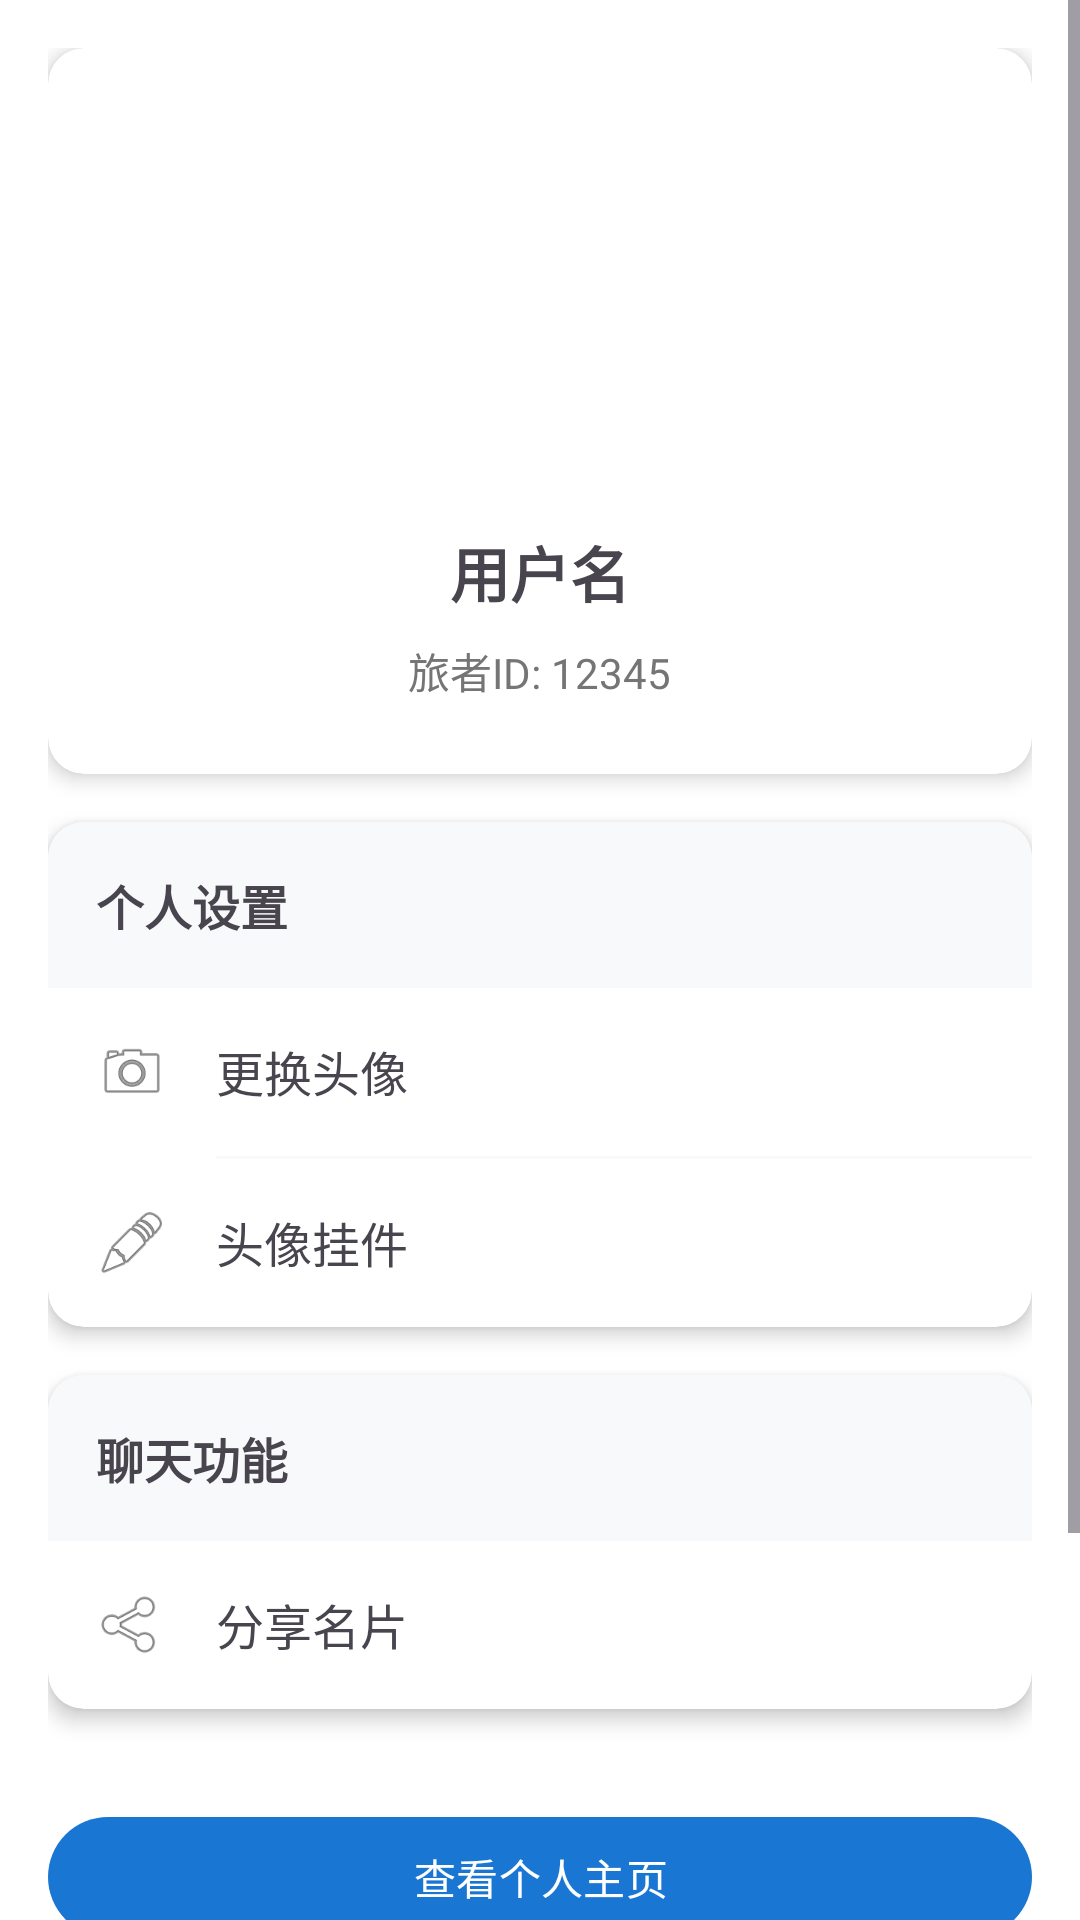

Icon click points for this 1080x1920 phone screenshot, format (x=x, y=y):
camera: (x=132, y=1071)
edit: (x=131, y=1242)
share: (x=128, y=1624)
